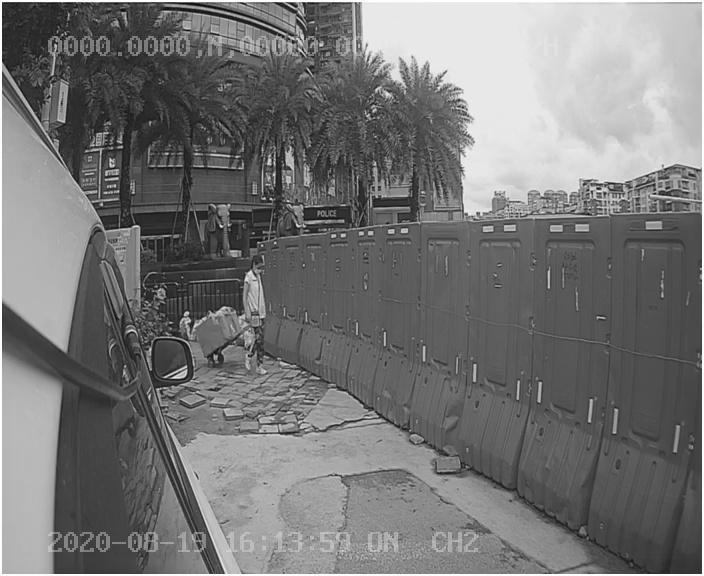person: (230, 251, 285, 380)
